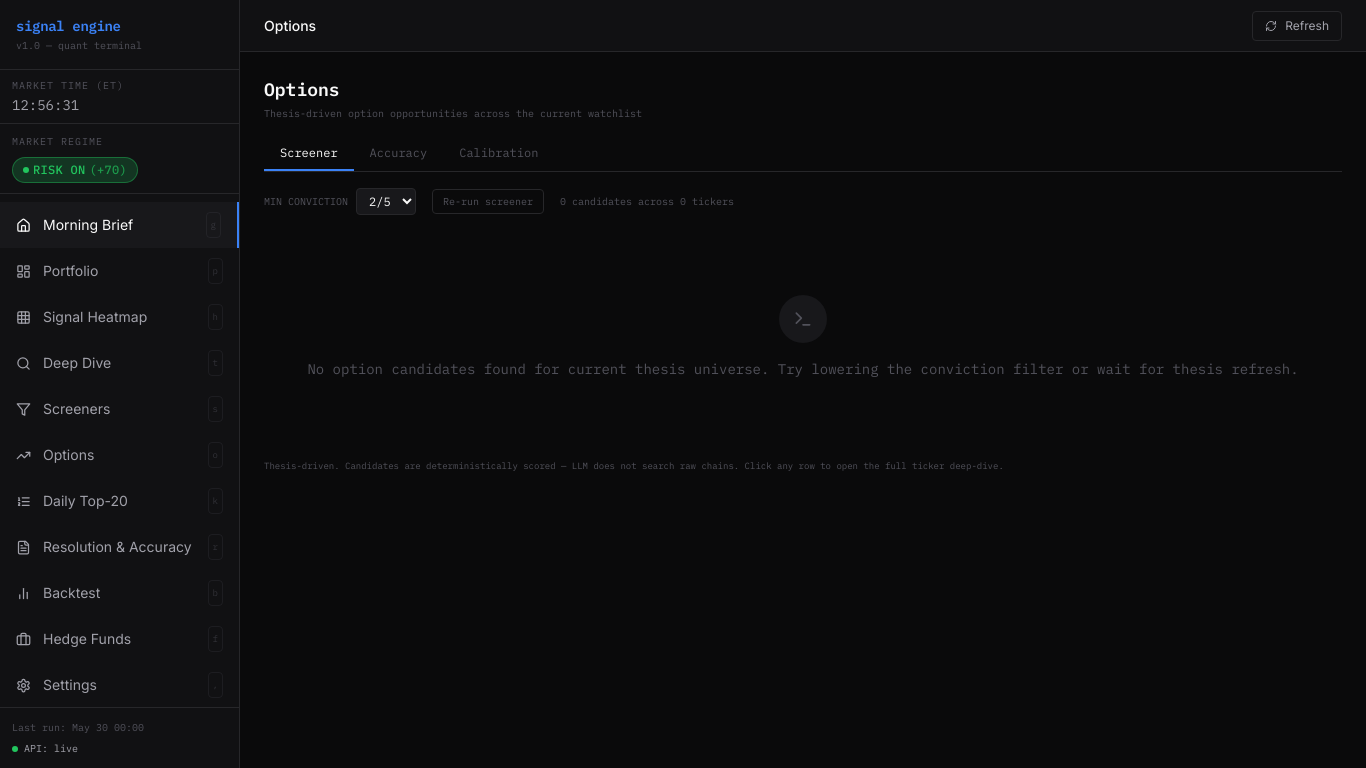
Test: OptionsPage — Accuracy tab › shows snapshot and resolved counts
Click the tab "Accuracy": (398,154) [354,137,443,171]
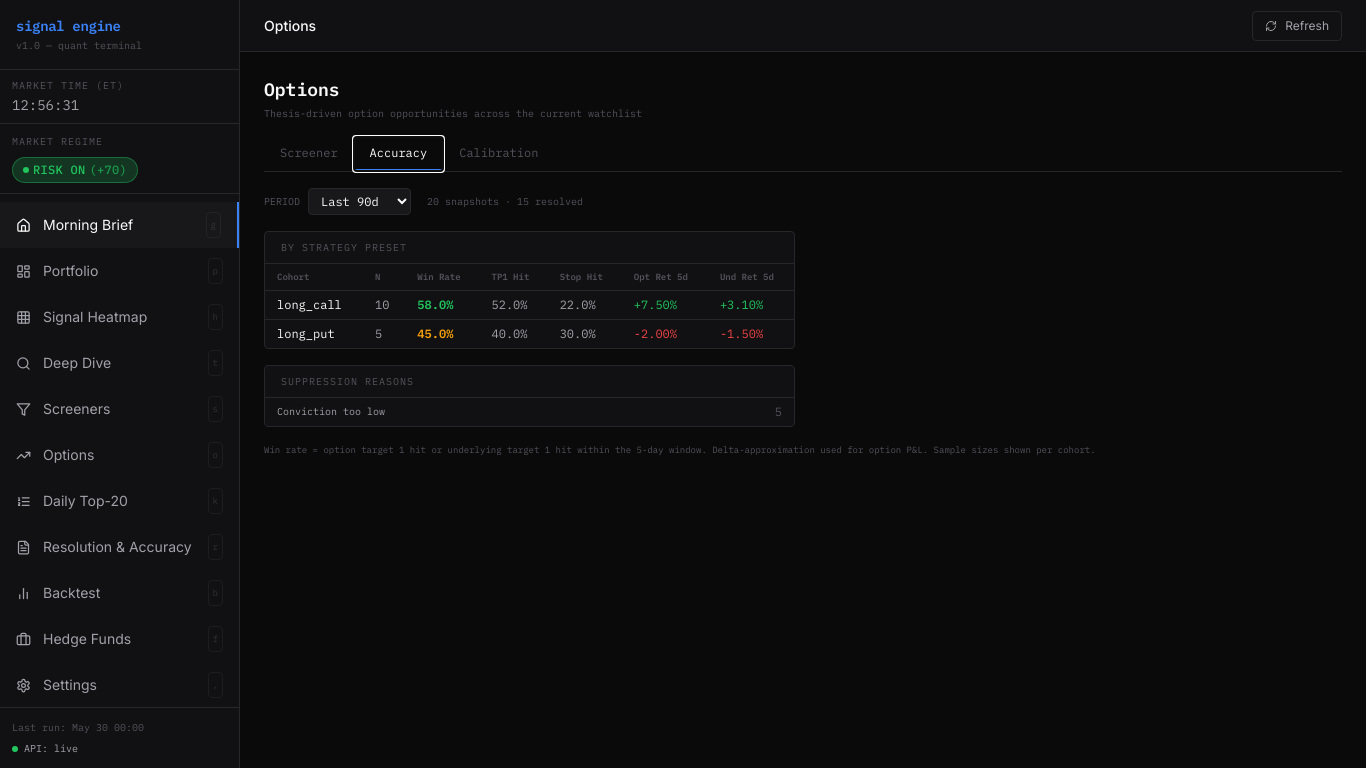
Expected: the text "20 snapshots · 15 resolved" is shown, [427,194,583,209]
